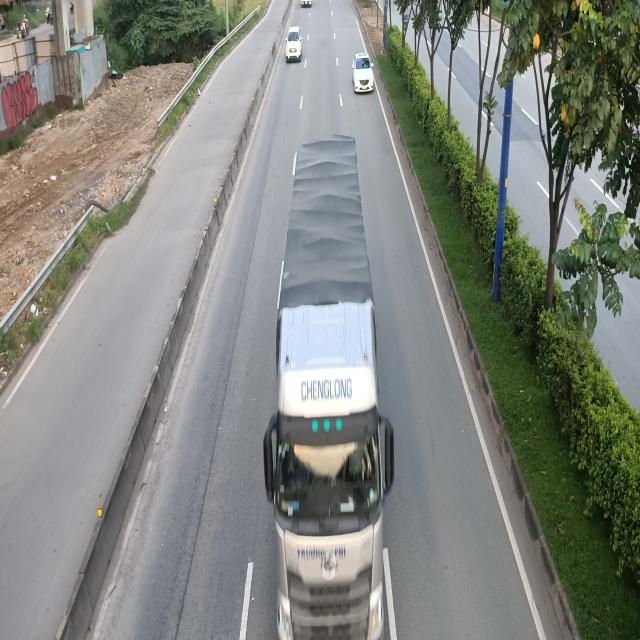car: (352, 53, 375, 93), (285, 24, 302, 62)
truck: (260, 139, 392, 640)
